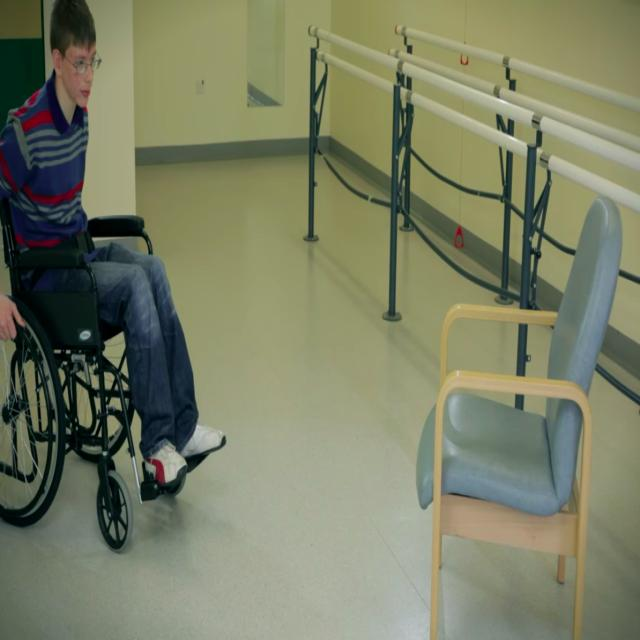wheelchairs: (0, 200, 188, 545)
